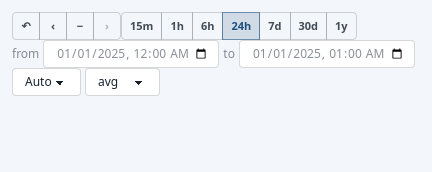
Test case: TimeRangeSelector › chooses the aggregation, which has no use on raw data
Select "max" in the dropdown named "Aggregation": (122, 82) x1=85 y1=68 x2=160 y2=96
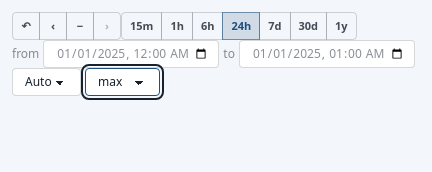
Select "Raw" in the dropdown named "Step": (46, 82) x1=12 y1=68 x2=81 y2=96
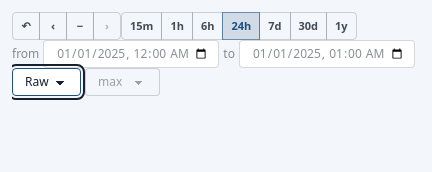
Now the dropdown named "Aggregation" is disabled, box x1=85 y1=68 x2=160 y2=96
